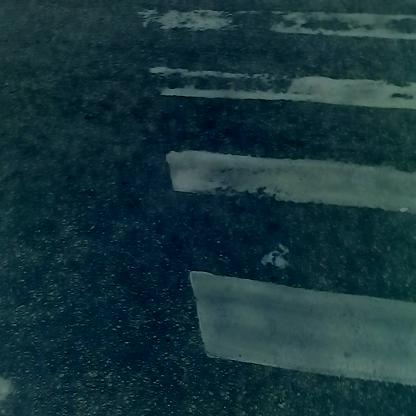crosswalk: (137, 13, 416, 387)
